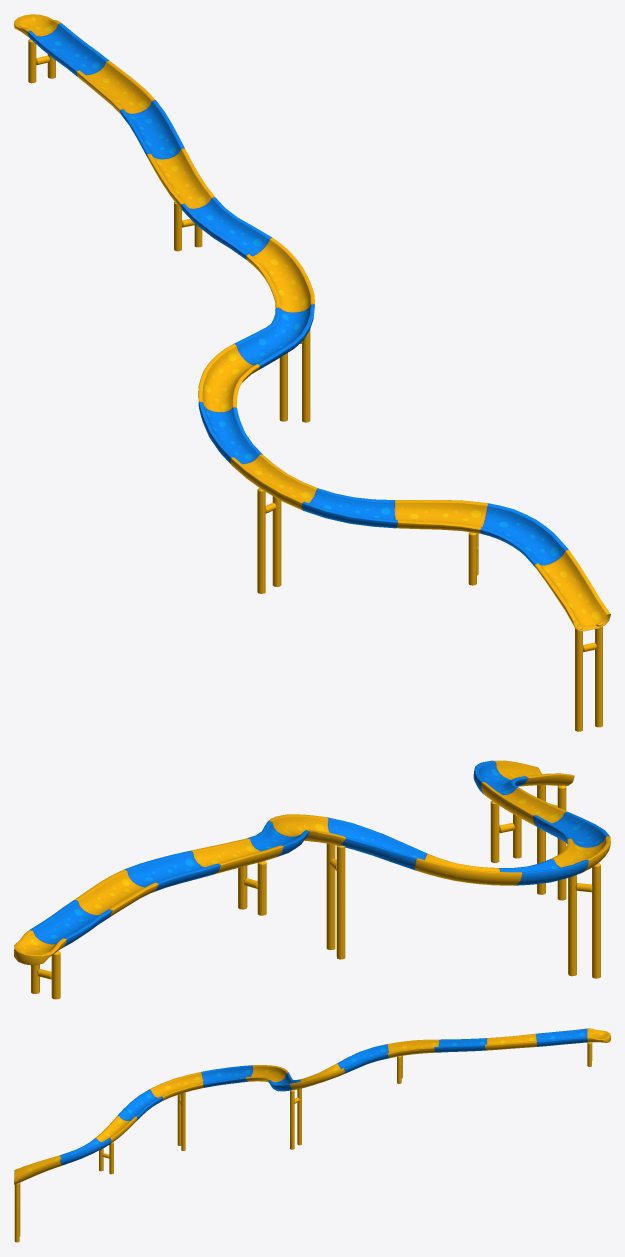
File: littleslide.fbx
3 renders of one model, top to bottom at view 1: azimuth 30°, elevation 25°; view 2: azimuth 150°, elevation 25°; view 3: azimuth 270°, elevation 25°, orthographic. The views are drawn at different scales.
Parts seen in each view (by area): view 1: Level14Slide1, Level14Extra; view 2: Level14Slide1, Level14Extra; view 3: Level14Slide1, Level14Extra.
Boxes of the visible parts, left/top/right/bottom form: Level14Slide1: left=14, top=14, right=610, bottom=631; Level14Extra: left=28, top=39, right=602, bottom=731; Level14Slide1: left=14, top=760, right=610, bottom=965; Level14Extra: left=31, top=785, right=600, bottom=999; Level14Slide1: left=14, top=1028, right=610, bottom=1184; Level14Extra: left=14, top=1042, right=592, bottom=1242.
Bounding box in the file's own units: 27.08 × 41.23 × 115.
